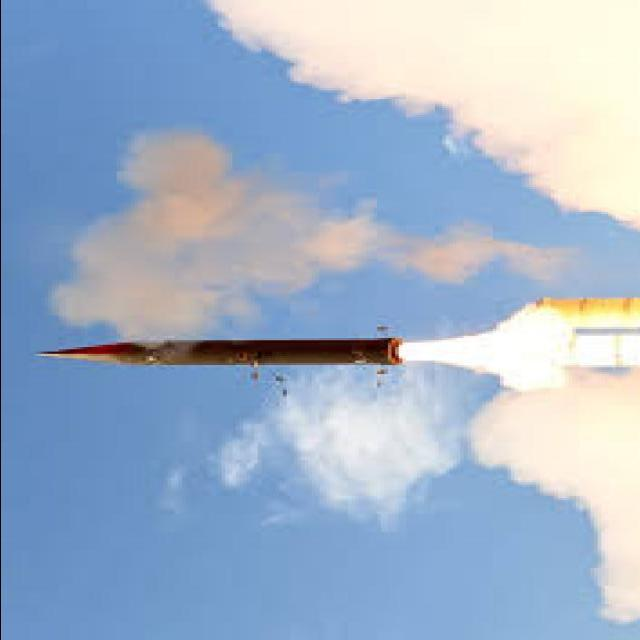Missile: (31, 334, 407, 372)
